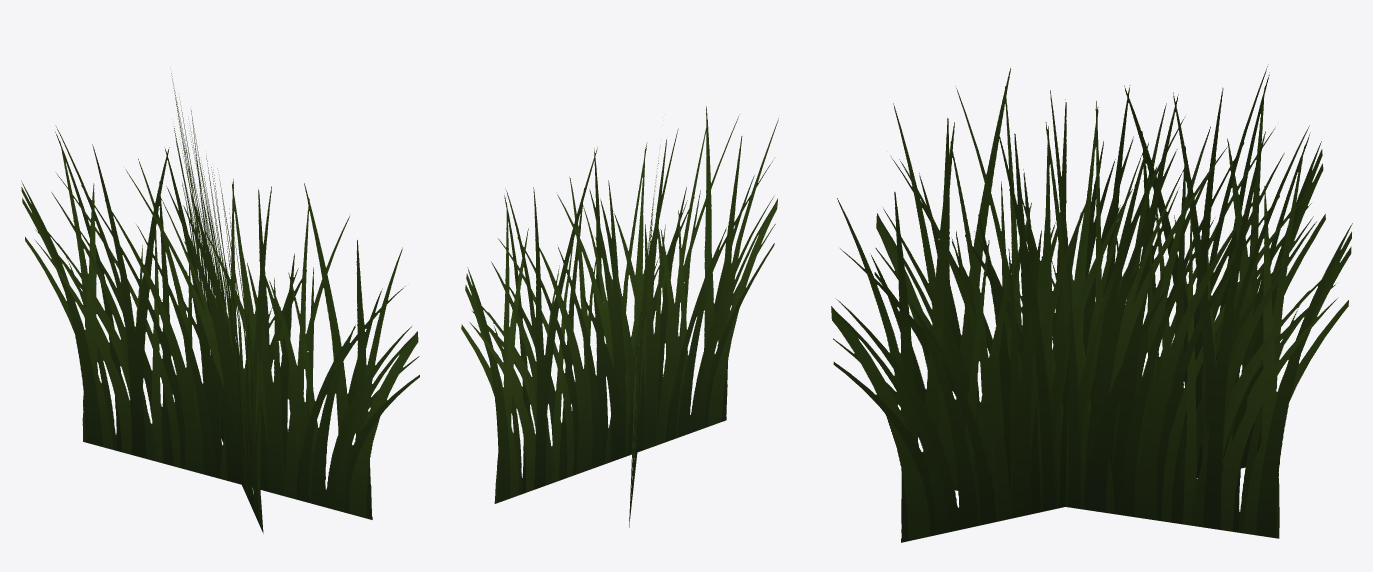
Rendered from grass_2_burnt3.glb.
3 renders of one model, left to right at view 1: azimuth 30°, elevation 25°; view 2: azimuth 150°, elevation 25°; view 3: azimuth 270°, elevation 25°, orthographic. The views are drawn at different scales.
Parts seen in each view (by area): view 1: grass_2_burnt3; view 2: grass_2_burnt3; view 3: grass_2_burnt3.
Boxes of the visible parts, box(x1,y1,x2,y2) form: grass_2_burnt3: box(21, 73, 419, 533); grass_2_burnt3: box(461, 106, 778, 527); grass_2_burnt3: box(831, 64, 1352, 542).
Size of the model in its own units: 0.2969 by 0.5055 by 0.5576.
Materials: 1 (1 with a texture image).
